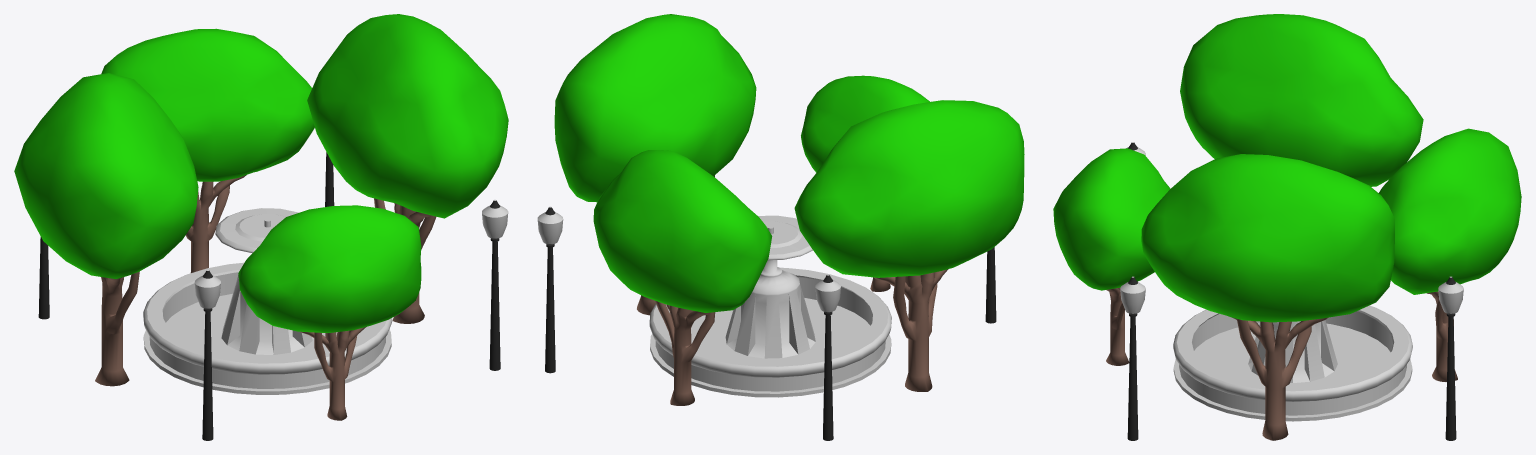
Rendered from PARQUE.fbx.
3 renders of one model, left to right at view 1: azimuth 30°, elevation 25°; view 2: azimuth 150°, elevation 25°; view 3: azimuth 270°, elevation 25°, orthographic. The views are drawn at different scales.
Visible parts, largest first — view 1: farolas; view 2: farolas; view 3: farolas.
Boxes of the visible parts, left/top/right/bottom form: farolas: left=14, top=14, right=508, bottom=440; farolas: left=537, top=14, right=1024, bottom=440; farolas: left=1053, top=14, right=1521, bottom=440.
Size of the model in its own units: 247 by 153 by 232.
